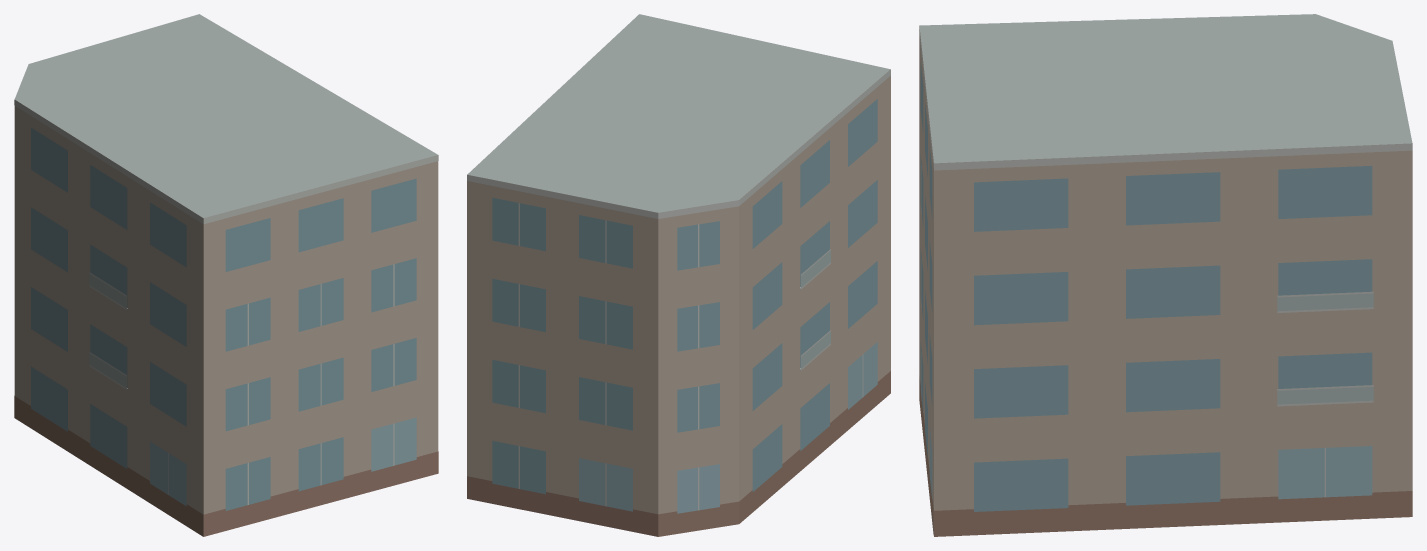
The model's file is survey-upis-32699726.glb.
The picture shows the model from 3 angles, left to right: view 1: azimuth 30°, elevation 25°; view 2: azimuth 150°, elevation 25°; view 3: azimuth 270°, elevation 25°; orthographic projection. The views are drawn at different scales.
Visible parts, largest first — view 1: survey-upis-32699726.tmp; view 2: survey-upis-32699726.tmp; view 3: survey-upis-32699726.tmp.
Part boxes in pixels (<box>): survey-upis-32699726.tmp: <box>14,14,438,536</box>; survey-upis-32699726.tmp: <box>467,14,890,536</box>; survey-upis-32699726.tmp: <box>919,14,1412,536</box>.
Bounding box in the file's own units: 10.99 × 12.8 × 15.33.
